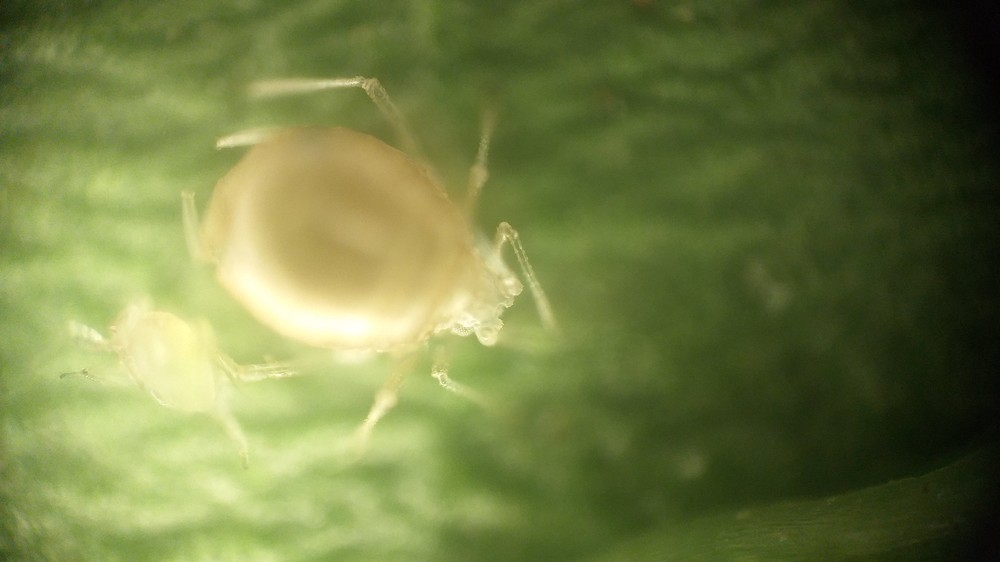Pulgon: (159, 66, 596, 470)
